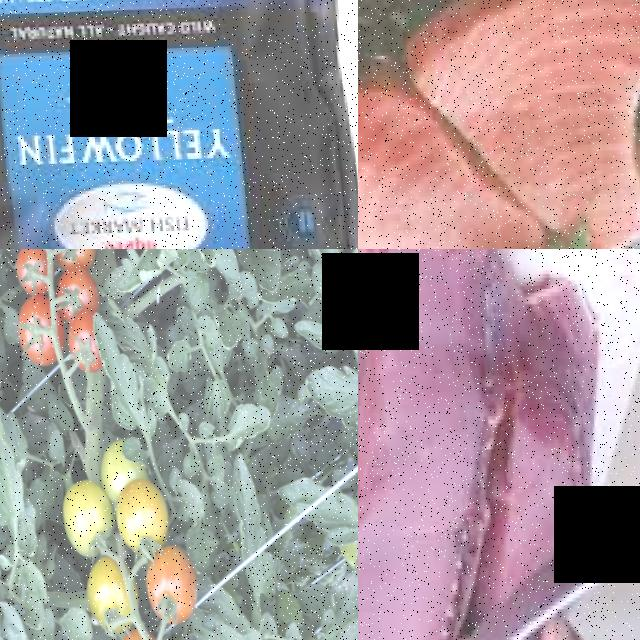tomato: (135, 541, 191, 627), (105, 474, 162, 557), (51, 476, 108, 556), (8, 294, 60, 370), (47, 249, 92, 271)
tuna: (438, 0, 640, 234), (358, 280, 472, 558), (358, 75, 493, 249), (482, 354, 589, 542)
